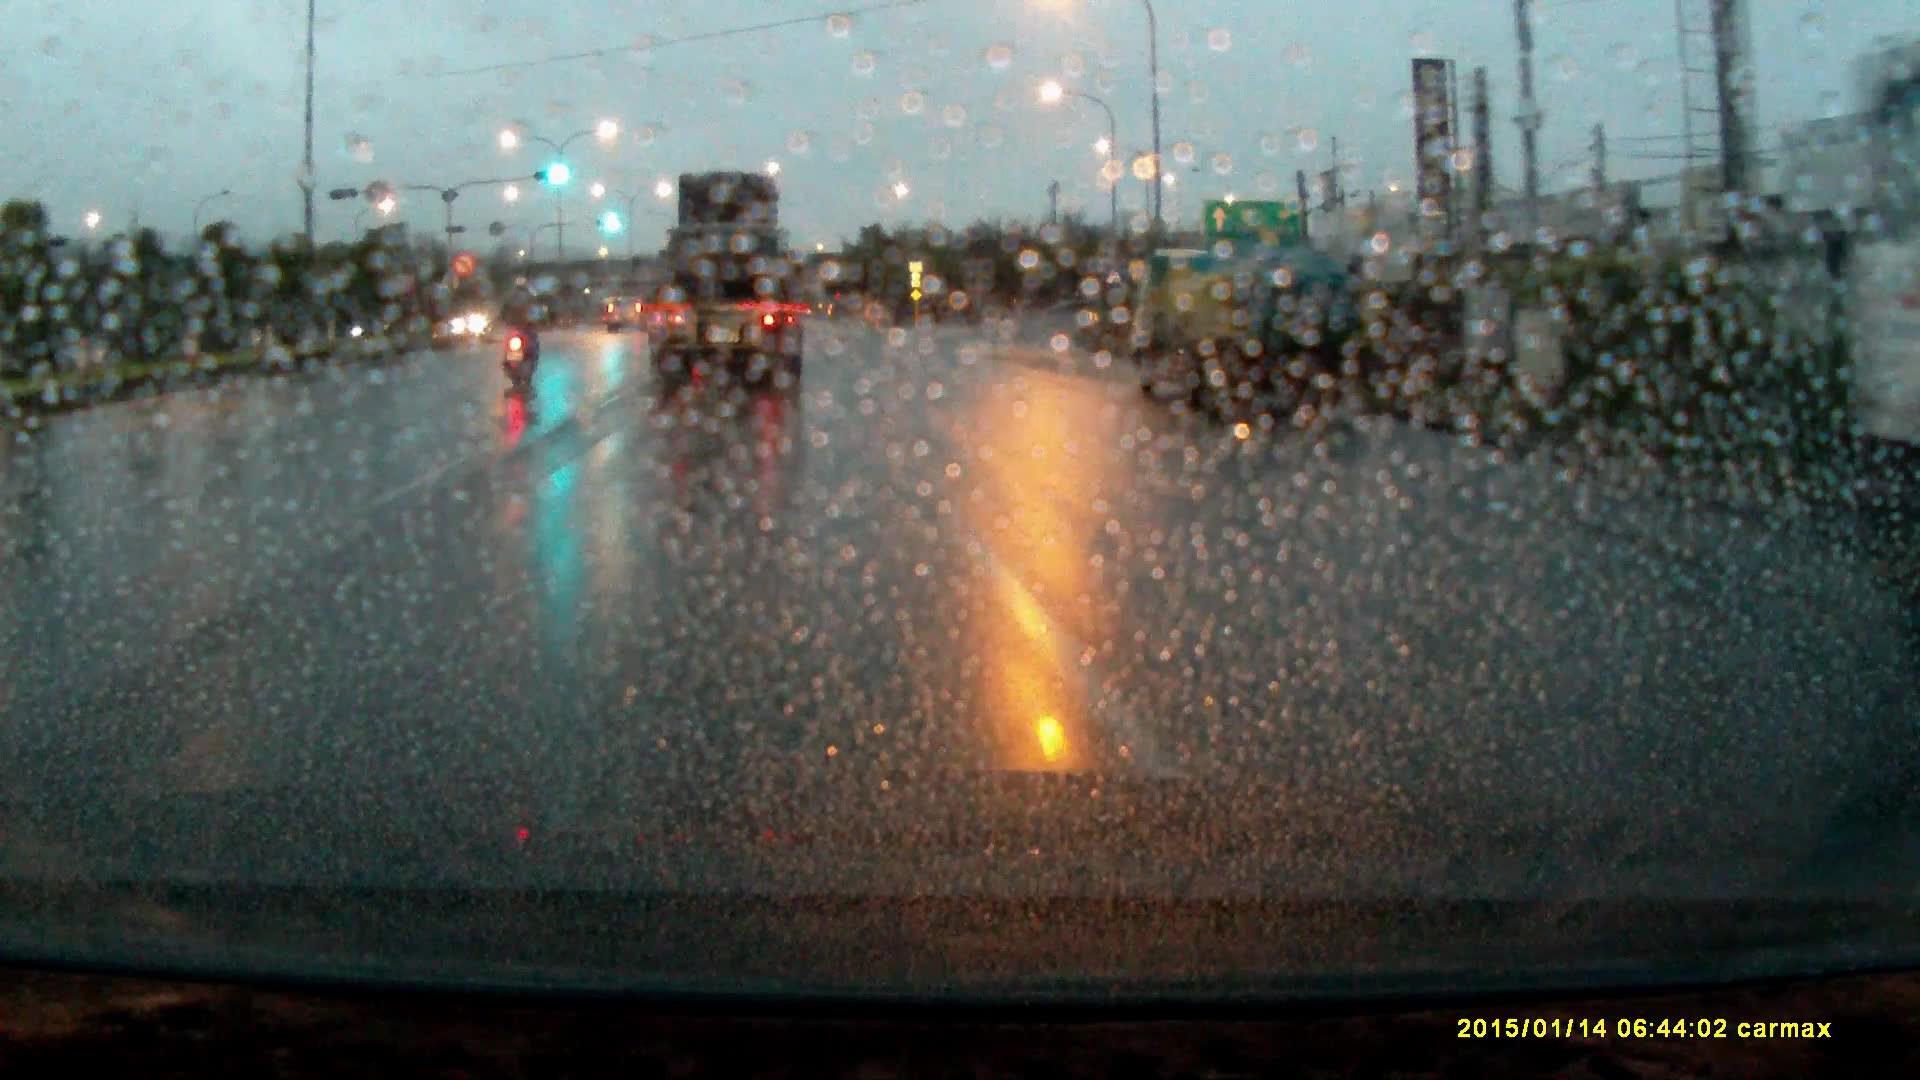rider: (499, 272, 548, 390)
vehicle: (1127, 242, 1375, 424), (647, 167, 808, 397), (607, 295, 646, 332)
